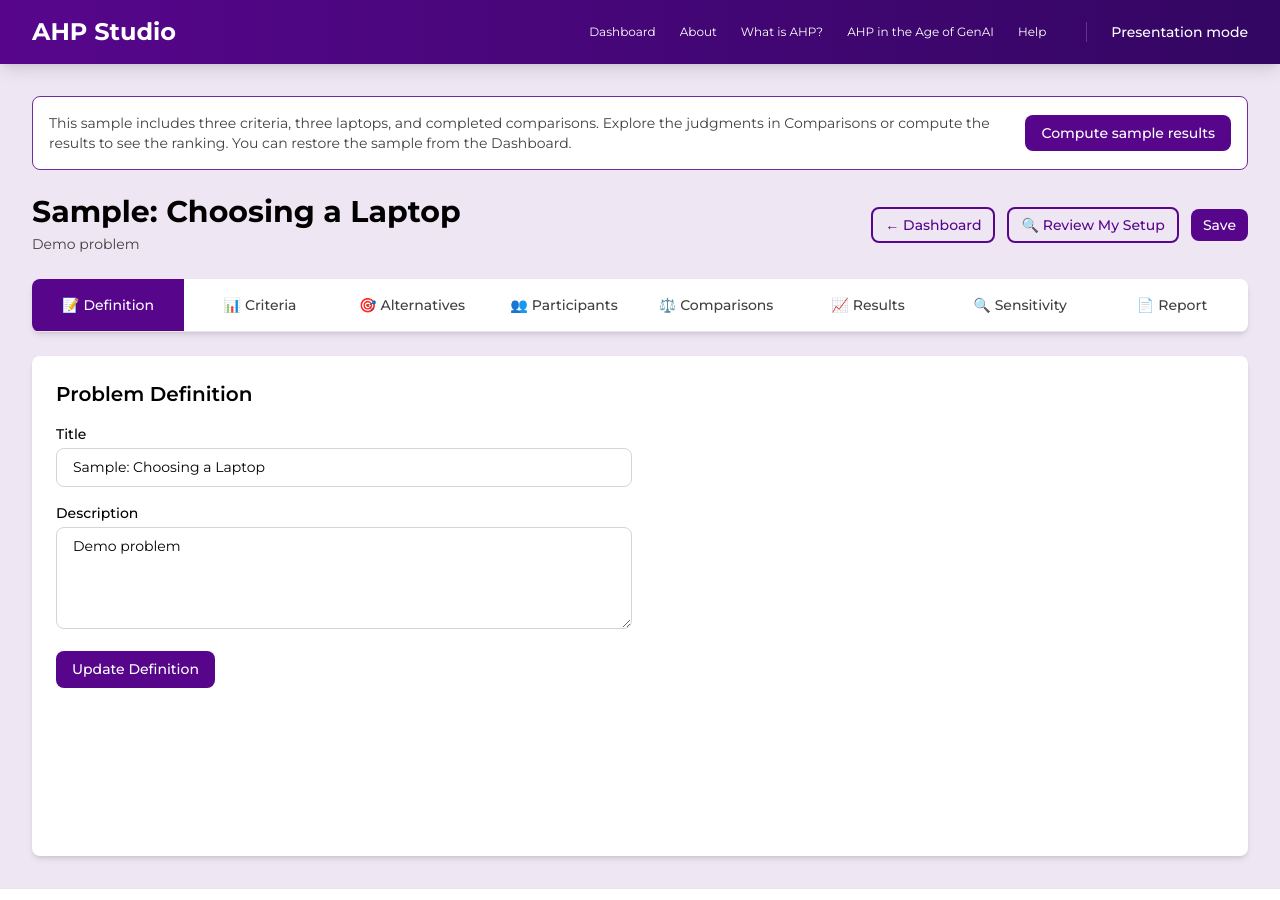
Scenario: the report sends the computed rankings and participant counts to the narrative service
Check: the field showing "Sample: Choosing a Laptop" is shown, box [56,448,632,487]
Click the button "Compute sample results" at (1128,133), box [1026,115,1231,151]
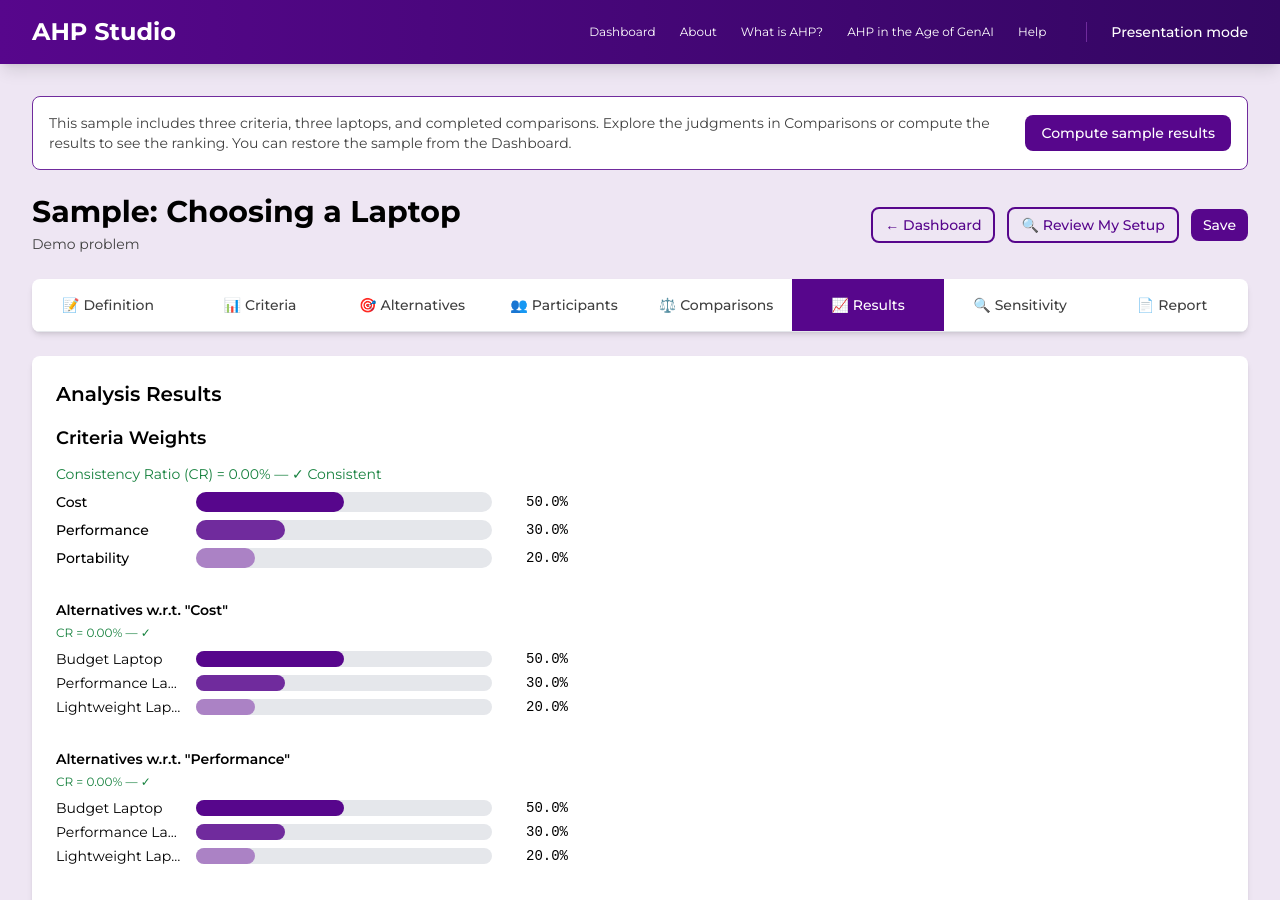
Check: the heading "Analysis Results" is shown, box [56,382,222,406]
Click the button "📄Report" at (1172,305), box [1096,279,1248,331]
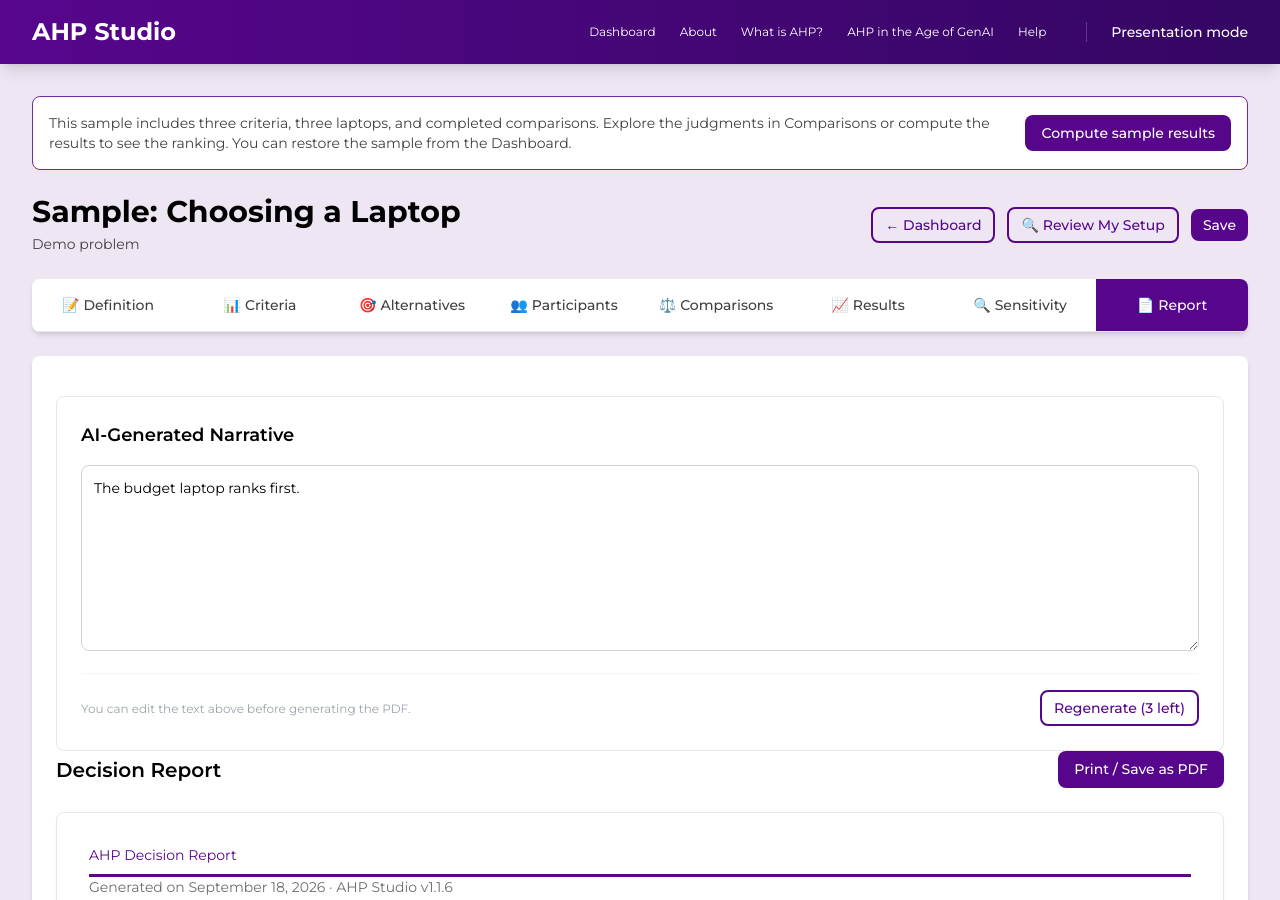
Check: the text box showing "The budget laptop ranks first." is shown, box [81,465,1199,651]
